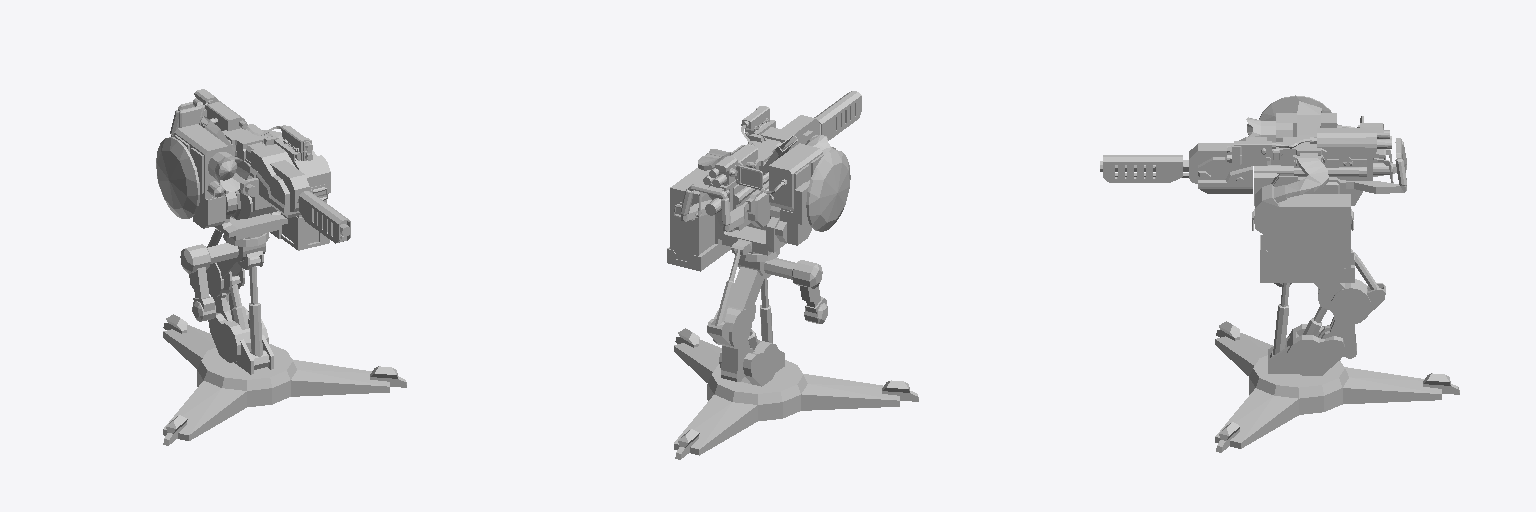
Rendered from turret.obj.
3 renders of one model, left to right at view 1: azimuth 30°, elevation 25°; view 2: azimuth 150°, elevation 25°; view 3: azimuth 270°, elevation 25°, orthographic.
Visible parts, largest first — view 1: sentrygun, sentryguntripod; view 2: sentrygun, sentryguntripod; view 3: sentrygun, sentryguntripod.
Part boxes in pixels (left/top/right/bottom): sentrygun: left=156, top=89, right=350, bottom=250; sentryguntripod: left=163, top=228, right=406, bottom=445; sentrygun: left=667, top=91, right=861, bottom=271; sentryguntripod: left=674, top=249, right=918, bottom=459; sentrygun: left=1100, top=95, right=1406, bottom=282; sentryguntripod: left=1215, top=249, right=1459, bottom=452.
Bounding box in the file's own units: 2.81 × 3.03 × 3.59.